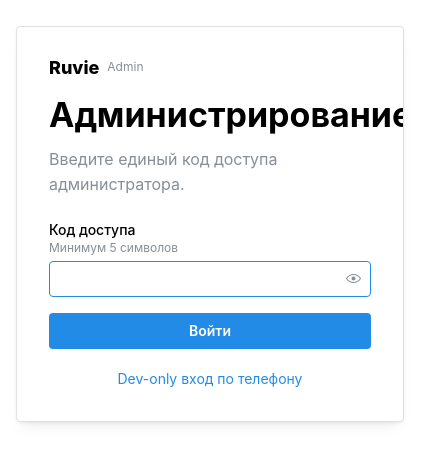
it: LoginPage › requires at least five characters
The image size is (421, 452).
In the password field labelled "Код доступа": {"x": 210, "y": 279} [50,262,370,296], type "1234"
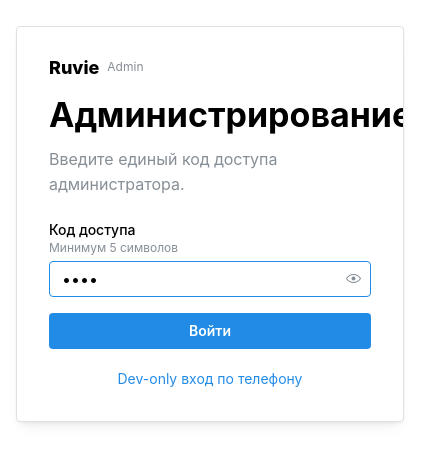
Click the button "Войти": {"x": 210, "y": 331} [49,313,371,349]
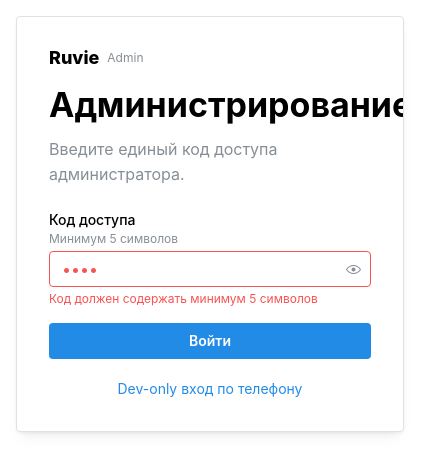
Check: the text "Код должен содержать минимум 5 символов" is shown, box [49,291,318,306]
